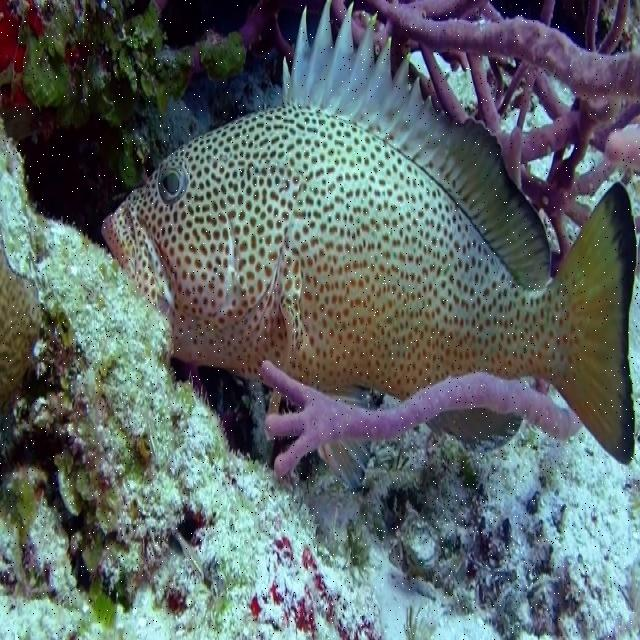fish: (100, 1, 638, 465)
reefs: (372, 0, 639, 256), (260, 362, 572, 479)
